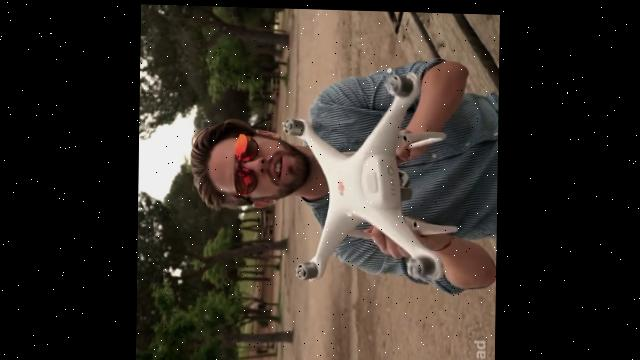drone: (278, 58, 446, 283)
